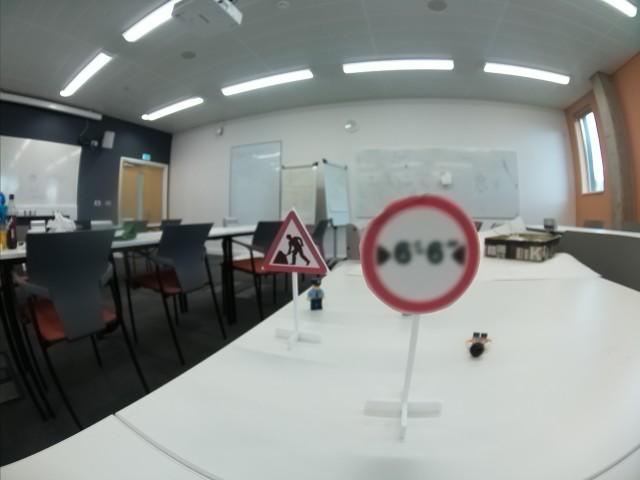6ft6: (356, 193, 483, 313)
Lego Man: (465, 329, 493, 360), (306, 277, 328, 310)
Roadworks: (259, 209, 333, 273)
